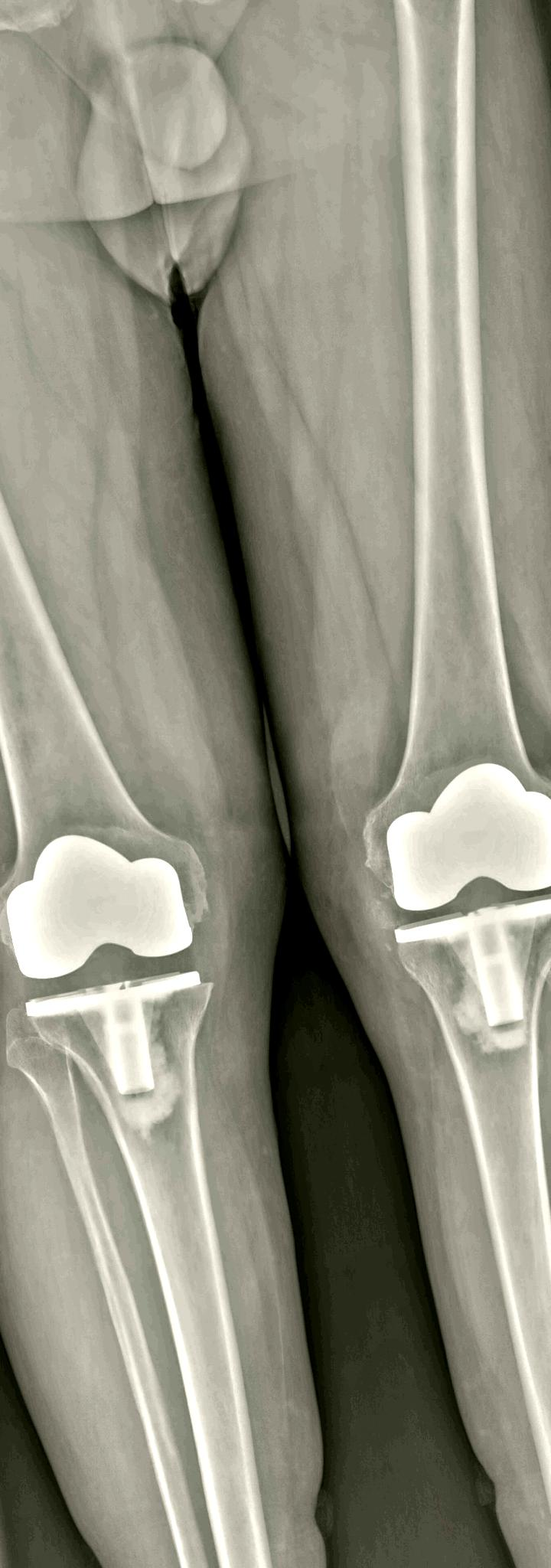Leg Fibula: (12, 1041, 206, 1568)
Leg Tibia: (27, 975, 271, 1568), (396, 898, 551, 1506)
femur: (365, 0, 551, 913), (0, 508, 205, 981)
